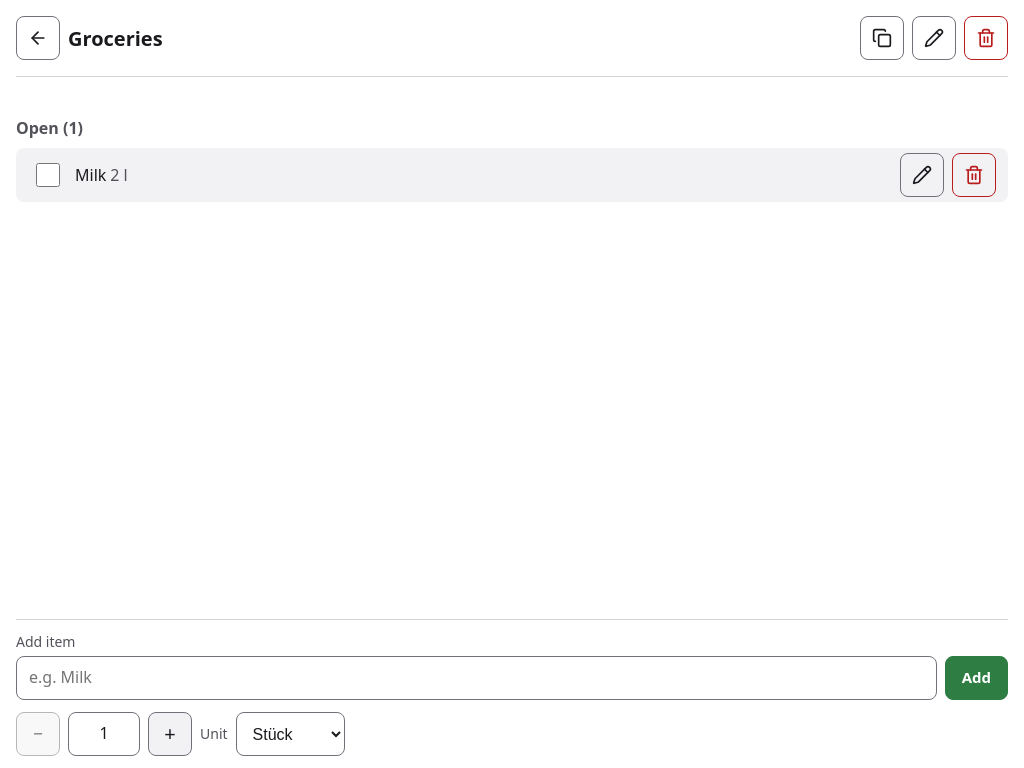
Test: ListDetail › preserves an item unit through the optimistic check flow
Expected: the text "Milk" is shown, [75, 164, 106, 187]
Expected: the text "2 l" is shown, [110, 164, 128, 187]
Click the checkbox labelled "Milk 2 l": coordinates (48, 175) [36, 163, 60, 187]
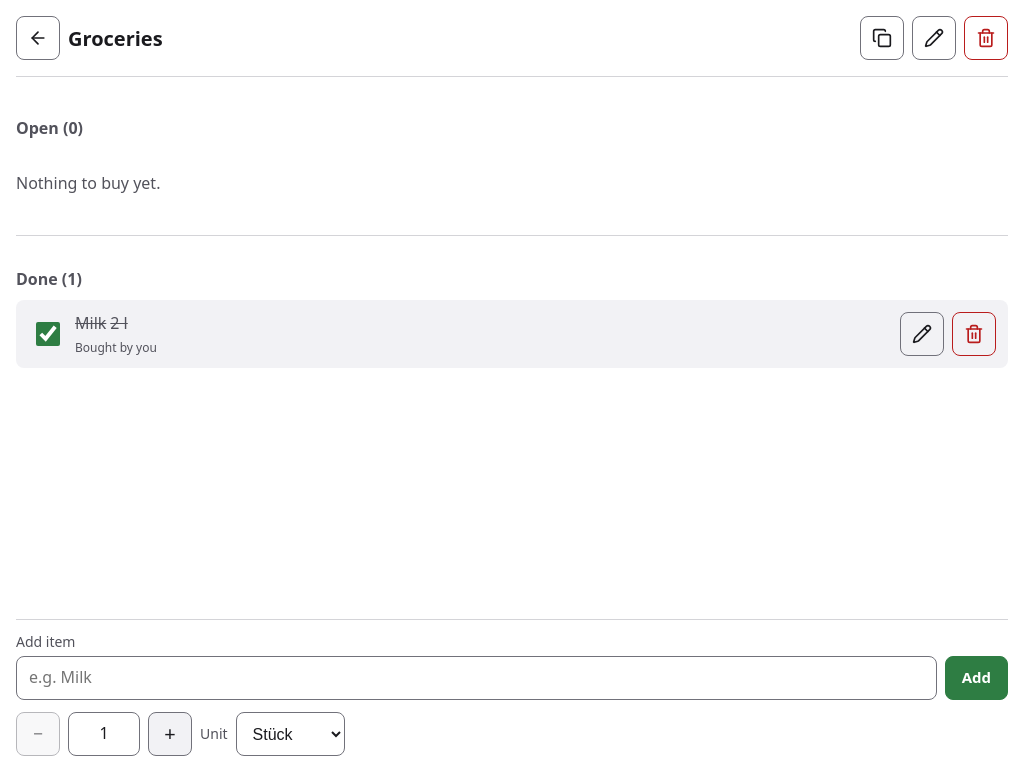
Expected: the text "2 l" is shown, [110, 312, 128, 335]
Expected: the heading "Done (1)" is shown, [16, 268, 82, 290]
